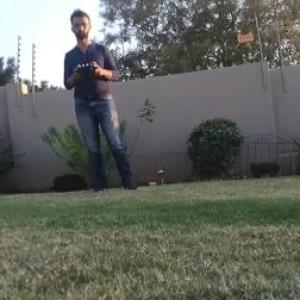follow: (61, 3, 146, 196)
